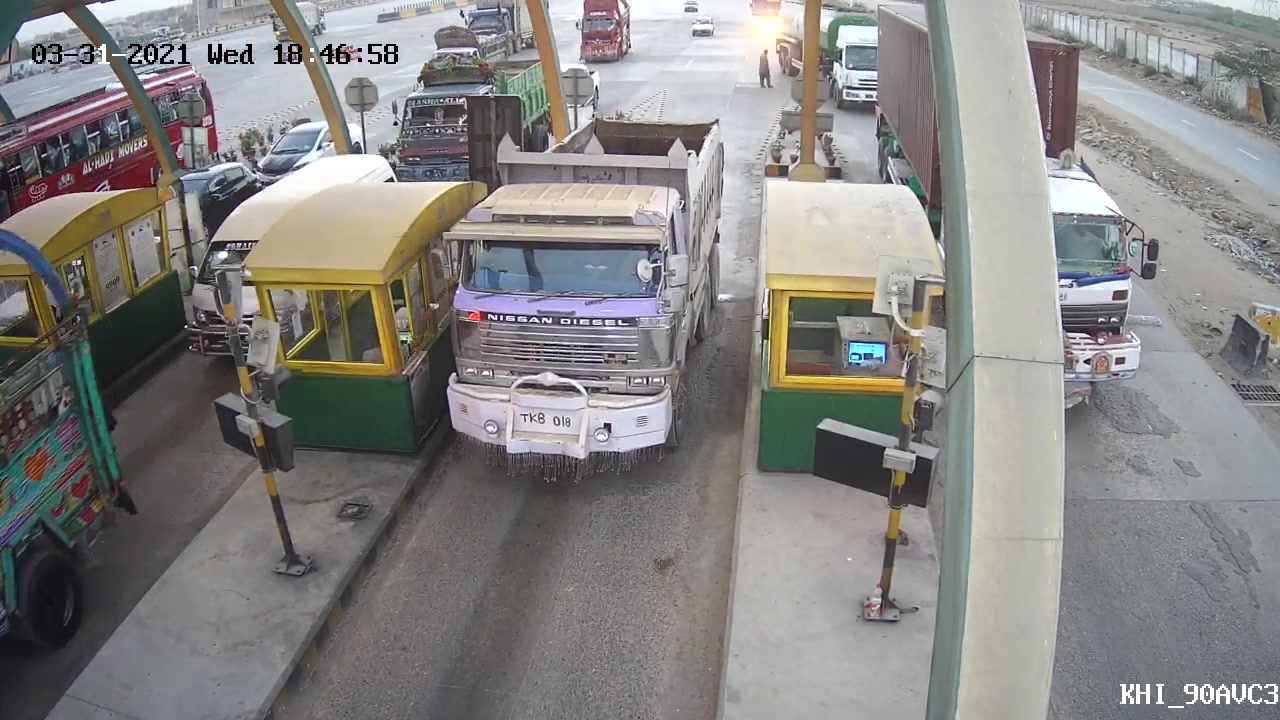F5: (436, 103, 731, 472)
